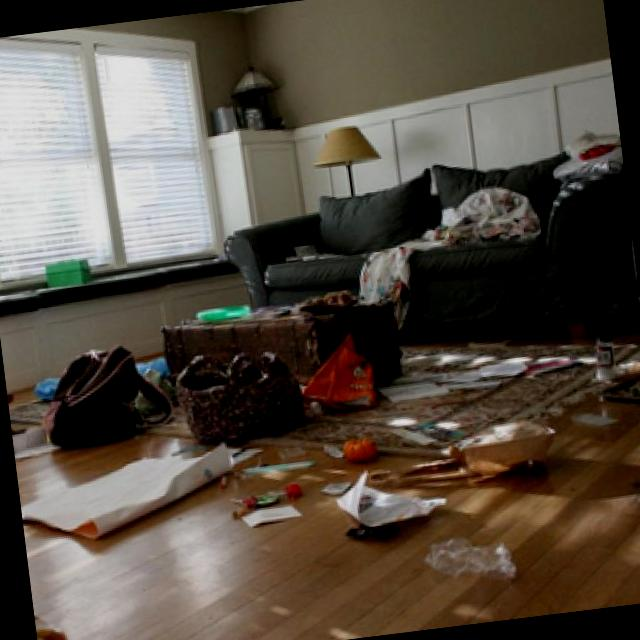lamp: (304, 120, 392, 206)
mess: (48, 438, 369, 555), (343, 189, 538, 326), (444, 422, 566, 488), (342, 467, 433, 546), (422, 529, 526, 595), (372, 358, 466, 417), (436, 340, 528, 398), (591, 325, 640, 418), (122, 350, 185, 422), (27, 372, 64, 404)
messy_table: (167, 289, 435, 413)
